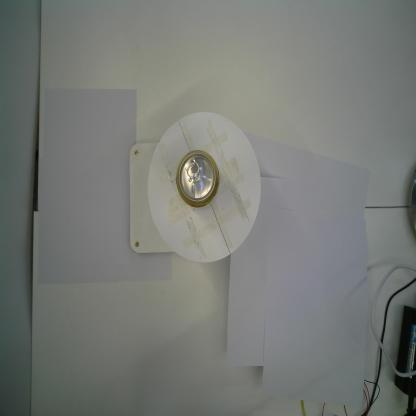Alcohol: (175, 148, 221, 210)
